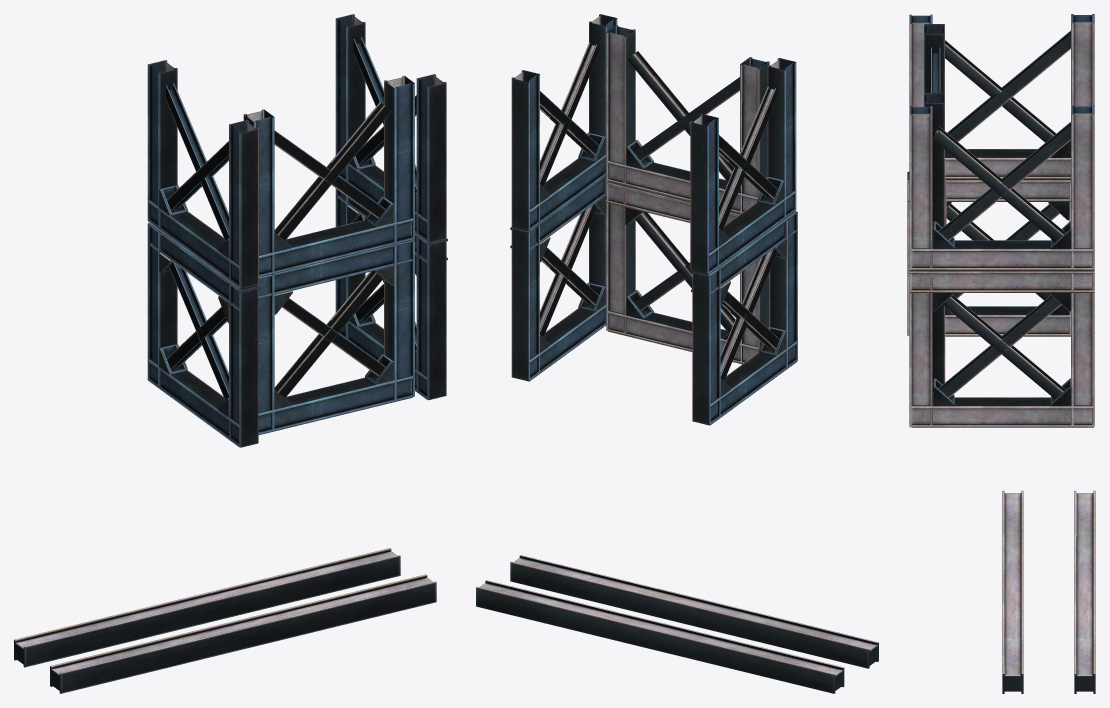
Rendered from beams_034.fbx.
3 renders of one model, left to right at view 1: azimuth 30°, elevation 25°; view 2: azimuth 150°, elevation 25°; view 3: azimuth 270°, elevation 25°, orthographic. The views are drawn at different scales.
Visible parts, largest first — view 1: Combined_Mesh; view 2: Combined_Mesh; view 3: Combined_Mesh.
Part boxes in pixels (x1=…): Combined_Mesh: x1=14, y1=14, x2=447, y2=693; Combined_Mesh: x1=476, y1=14, x2=878, y2=693; Combined_Mesh: x1=907, y1=14, x2=1095, y2=693.
Bounding box in the file's own units: 4.49 × 6.43 × 1.95.
Materials: 1 (1 with a texture image).
